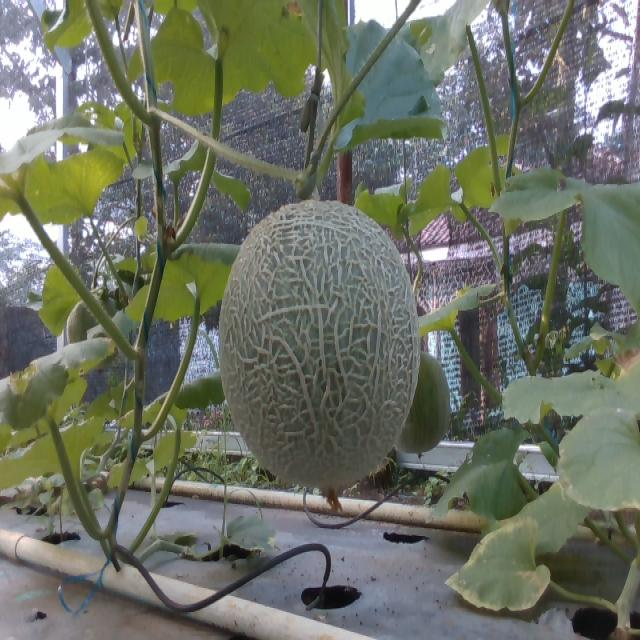melon: (220, 200, 421, 493)
